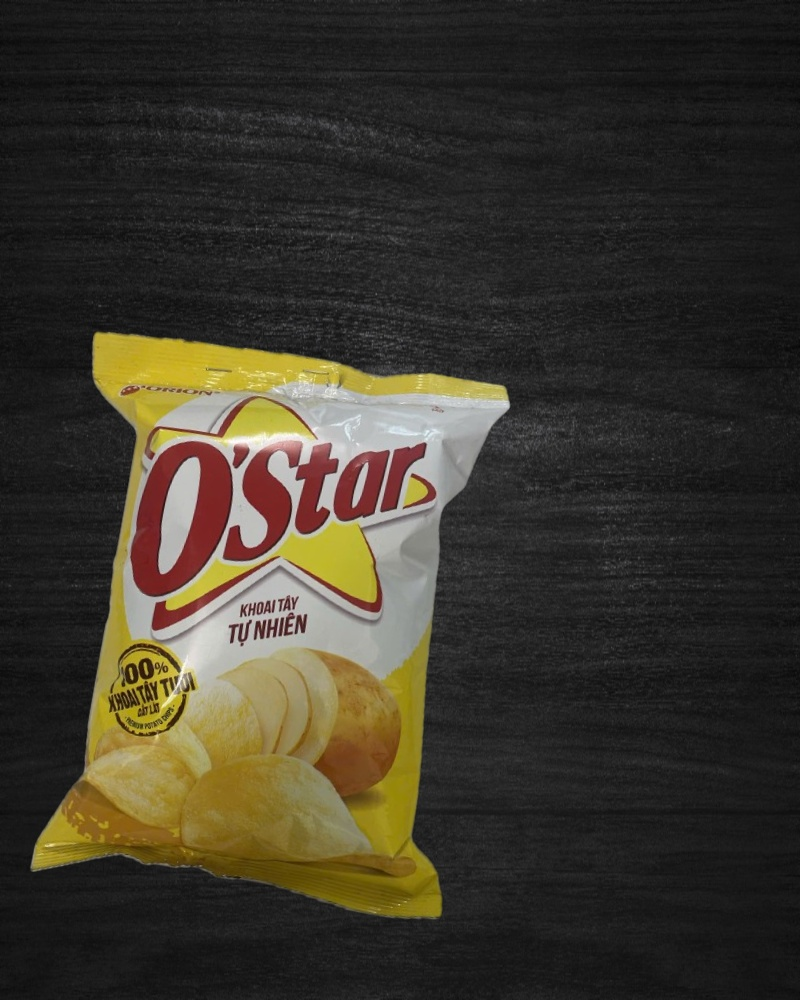O'star: (2, 314, 534, 943)
